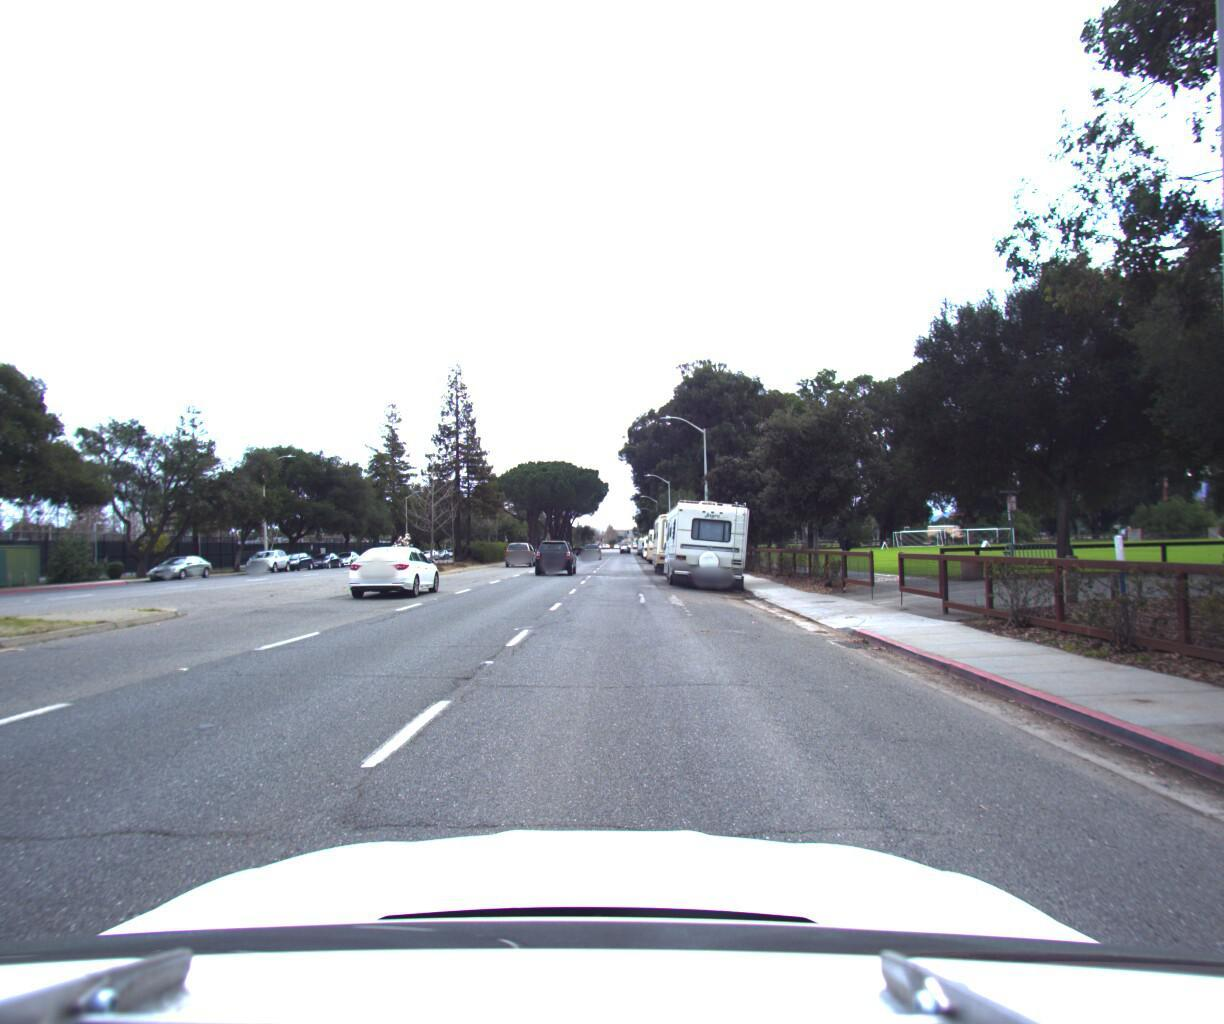car: (342, 537, 449, 593), (144, 546, 218, 576), (535, 531, 578, 568), (242, 540, 293, 568), (503, 530, 538, 556), (305, 545, 346, 563), (330, 542, 365, 561), (585, 534, 603, 551)
other_vehicle: (656, 484, 758, 588), (647, 498, 710, 573), (641, 516, 681, 558)
